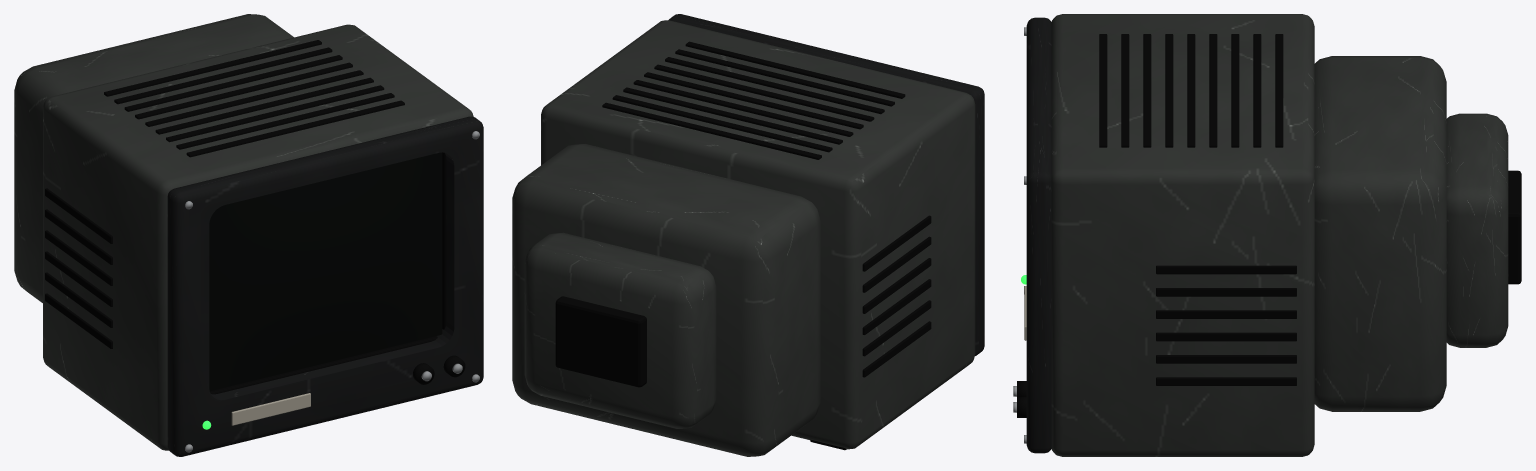
Rendered from cctv-monitor.glb.
The picture shows the model from 3 angles, left to right: view 1: azimuth 30°, elevation 25°; view 2: azimuth 150°, elevation 25°; view 3: azimuth 270°, elevation 25°; orthographic projection. The views are drawn at different scales.
Parts seen in each view (by area): view 1: Cube, Screen, Cube.004, Cube.001, Cube.011, Cube.012, Cube.014, Cube.015, Cube.016, Cube.013, Cube.017, Cube.018 (+10 smaller); view 2: Cube, Cube.001, Cube.002, Cube.003, Cube.004, Cube.011, Cube.015, Cube.012, Cube.014, Cube.017, Cube.018, Cube.010 (+8 smaller); view 3: Cube, Cube.001, Cube.002, Cube.004, Cube.003, Cube.028, Cube.025, Cube.026, Cube.027, Cube.029, Cube.030, Cube.010 (+8 smaller).
Part boxes in pixels (<box>): Cube: <box>43,24,473,450</box>; Screen: <box>209,152,442,390</box>; Cube.004: <box>167,116,483,456</box>; Cube.001: <box>14,14,293,302</box>; Cube.011: <box>114,47,332,104</box>; Cube.012: <box>124,55,342,111</box>; Cube.014: <box>145,70,363,126</box>; Cube.015: <box>155,77,373,134</box>; Cube.016: <box>166,85,384,142</box>; Cube.013: <box>135,62,352,119</box>; Cube.017: <box>176,93,394,149</box>; Cube.018: <box>186,100,404,157</box>; Cube: <box>541,20,975,449</box>; Cube.001: <box>512,144,820,456</box>; Cube.002: <box>524,232,716,428</box>; Cube.003: <box>555,296,646,387</box>; Cube.004: <box>668,14,984,355</box>; Cube.011: <box>612,95,832,152</box>; Cube.015: <box>654,64,874,121</box>; Cube.012: <box>623,87,842,144</box>; Cube.014: <box>644,72,863,129</box>; Cube.017: <box>675,49,894,106</box>; Cube.018: <box>685,41,905,98</box>; Cube.010: <box>602,102,821,159</box>; Cube: <box>1051,14,1314,456</box>; Cube.001: <box>1314,56,1446,411</box>; Cube.002: <box>1446,113,1508,347</box>; Cube.004: <box>1026,17,1051,453</box>; Cube.003: <box>1508,170,1521,284</box>; Cube.028: <box>1156,332,1296,341</box>; Cube.025: <box>1156,265,1296,274</box>; Cube.026: <box>1156,288,1296,296</box>; Cube.027: <box>1156,310,1296,318</box>; Cube.029: <box>1156,355,1296,363</box>; Cube.030: <box>1156,377,1296,385</box>; Cube.010: <box>1275,34,1283,147</box>.
Size of the model in its own units: 0.446 by 0.363 by 0.577.
Materials: 8 (2 with a texture image).
